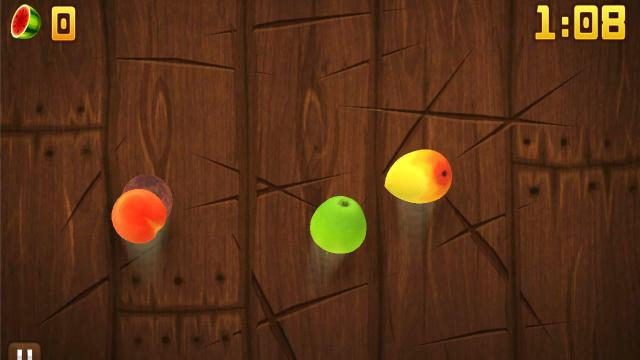fruit: (383, 146, 455, 206), (309, 194, 369, 256), (116, 194, 160, 242), (126, 172, 174, 214)
